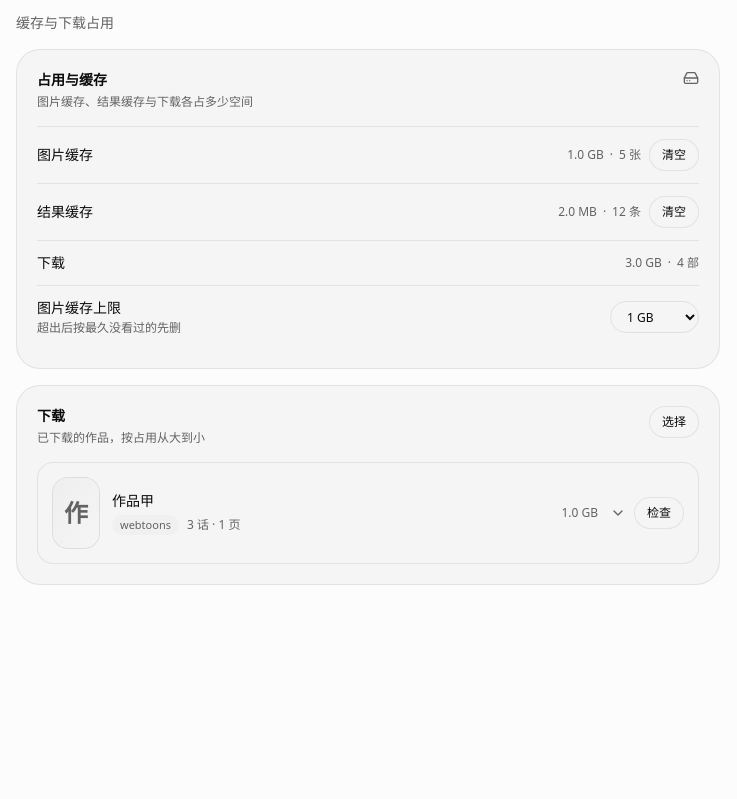
Test: 存储页的完整性检查 › 展开一行自动跑检查，渲染汇总、逐话状态与页号
Expected: the text "作品甲" is shown, [112,491,154,510]
Step 1. Click the button "作 作品甲 webtoons 3 话 · 1 页 1.0 GB" → (76, 513), box [52,477,626,549]
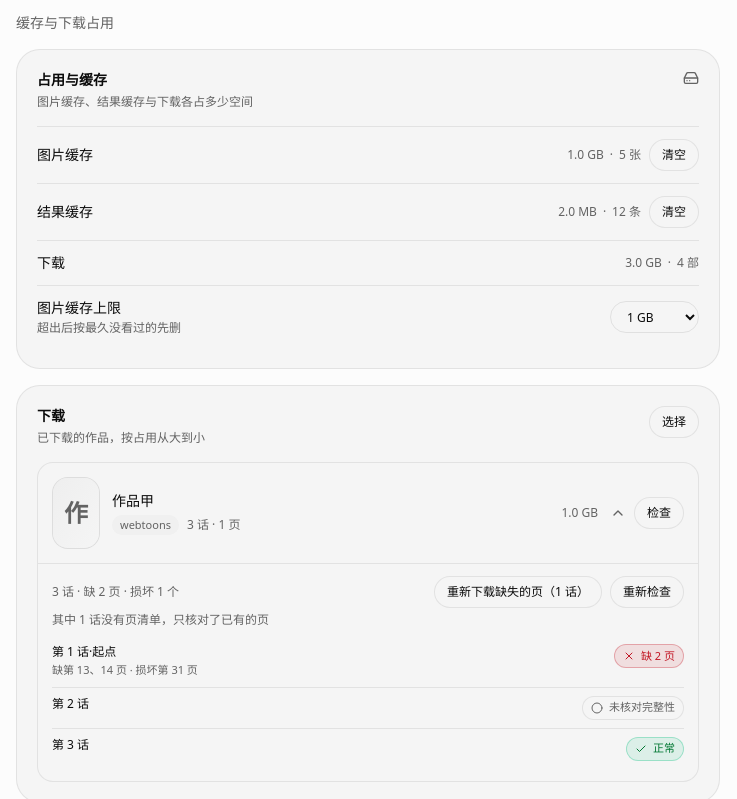
Expected: the text "3 话 · 缺 2 页 · 损坏 1 个" is shown, [52,584,179,600]
Expected: the text "其中 1 话没有页清单，只核对了已有的页" is shown, [52,611,269,628]
Expected: the text "第 1 话·起点" is shown, [52,643,116,660]
